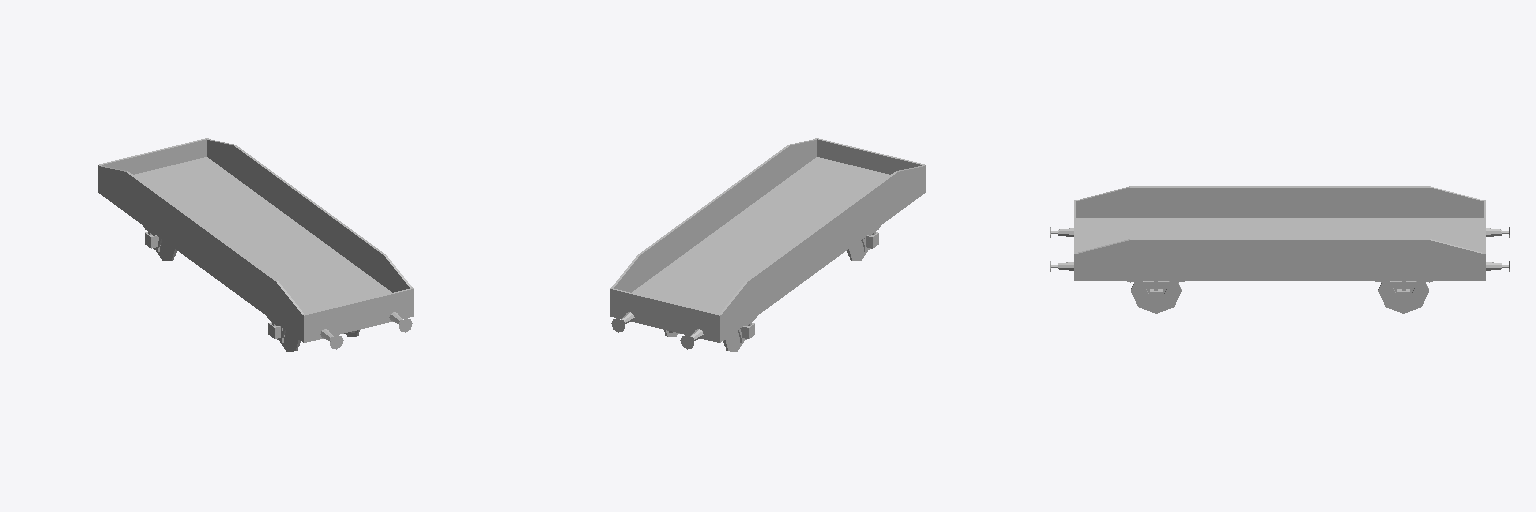
Rendered from 2axle-flatcar.obj.
3 renders of one model, left to right at view 1: azimuth 30°, elevation 25°; view 2: azimuth 150°, elevation 25°; view 3: azimuth 270°, elevation 25°, orthographic.
Bounding box in the file's own units: 7.1 × 5.25 × 25.7.